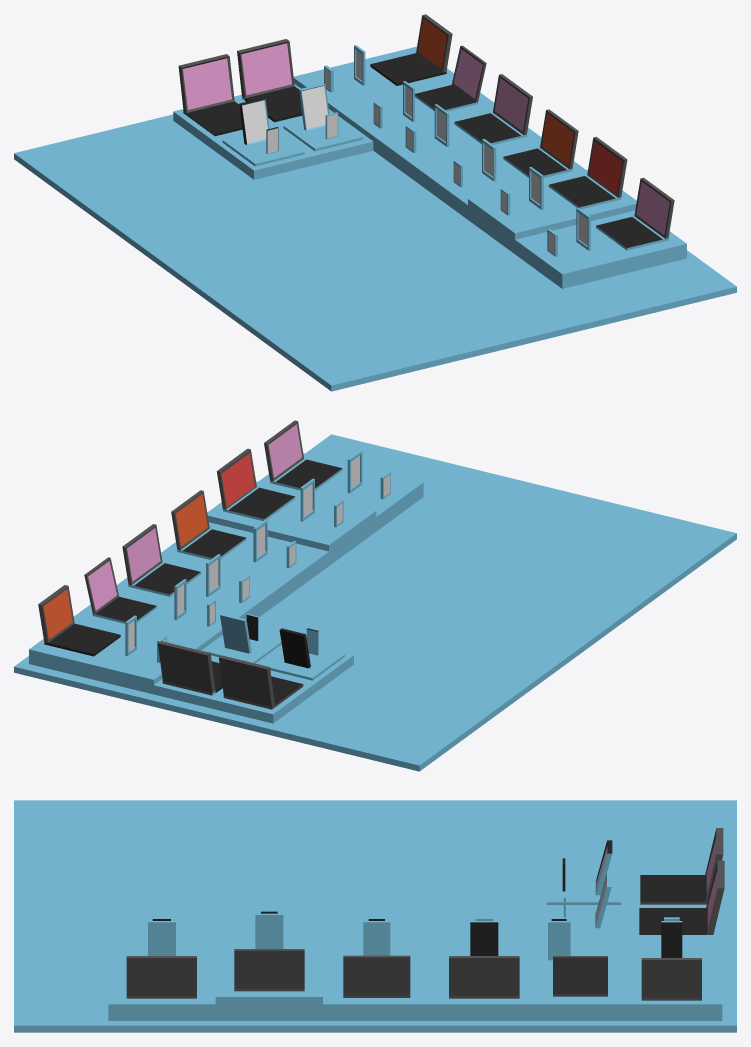
File: Laptop area.fbx
The picture shows the model from 3 angles, top to bottom: view 1: azimuth 30°, elevation 25°; view 2: azimuth 150°, elevation 25°; view 3: azimuth 270°, elevation 25°; orthographic projection. The views are drawn at different scales.
Parts seen in each view (by area): view 1: laptop shop; view 2: laptop shop; view 3: laptop shop.
Part boxes in pixels (x1,y1,x2,y2): laptop shop: [14, 14, 736, 391]; laptop shop: [14, 420, 736, 771]; laptop shop: [14, 800, 736, 1032].
Size of the model in its own units: 1086 by 168 by 1472.
